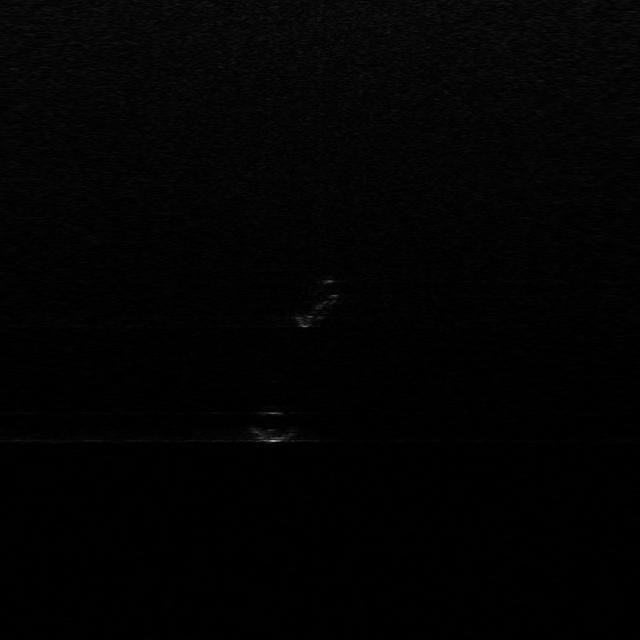ball: (248, 408, 300, 445)
tyre: (289, 275, 343, 330)
